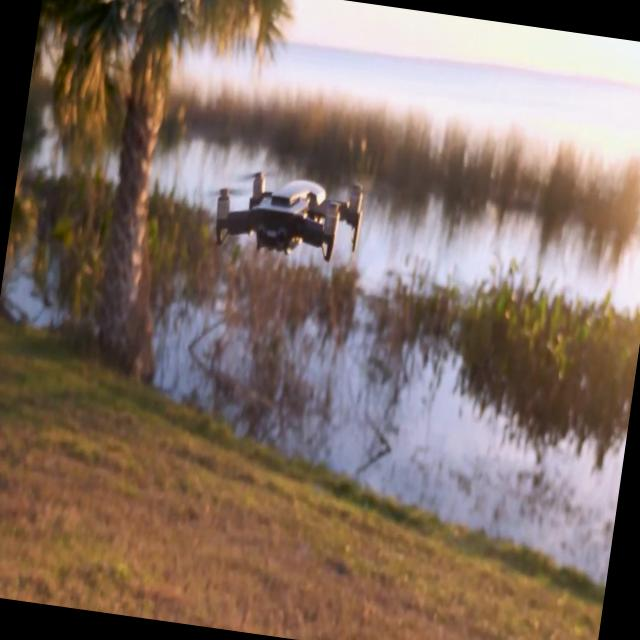drone: (210, 158, 369, 268)
